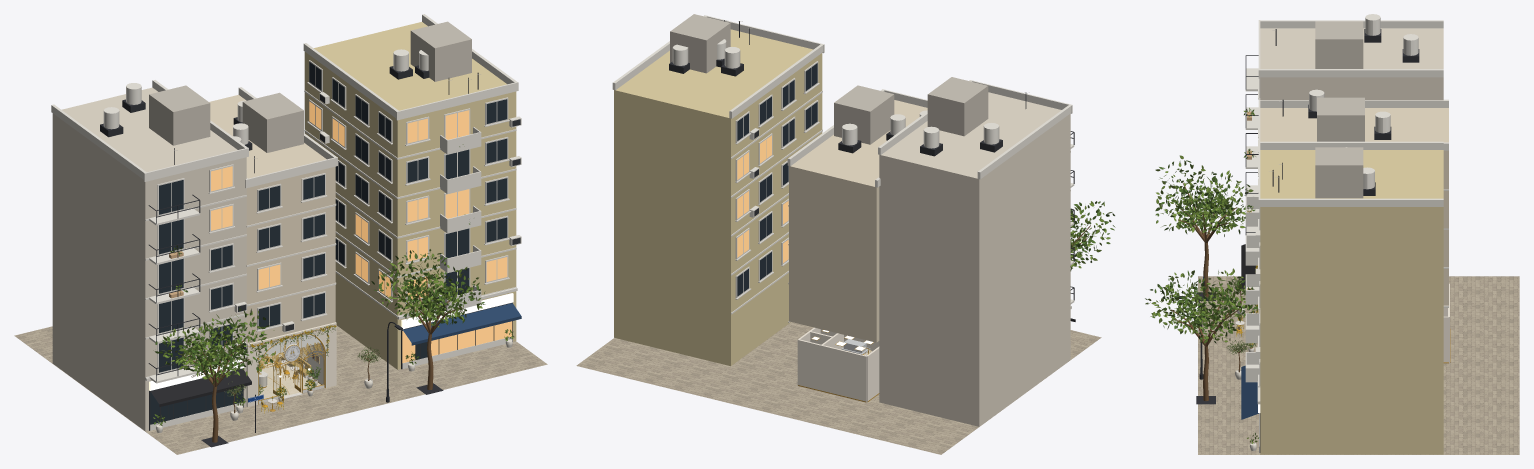
Rendered from salon-75.glb.
The picture shows the model from 3 angles, left to right: view 1: azimuth 30°, elevation 25°; view 2: azimuth 150°, elevation 25°; view 3: azimuth 270°, elevation 25°; orthographic projection.
Visible parts, largest first — view 1: bw1, bw4, bwtrim, win, paving, facade_hi, bw3, win_lit_n, leaf, leaf2, iron, aw_b (+7 smaller); view 2: bw1, bw4, facade_hi, paving, bwtrim, bw3, plaster, win, iron, win_lit_n, leaf, leaf2; view 3: bw4, paving, bwtrim, bw1, bw3, facade_hi, leaf, leaf2, iron, trunk, aw_b, plaster.
Boxes of the visible parts, x1=… form: bw1: x1=52, y1=87, x2=246, y2=431; bw4: x1=304, y1=22, x2=516, y2=369; bwtrim: x1=51, y1=14, x2=521, y2=430; win: x1=150, y1=62, x2=507, y2=424; paving: x1=14, y1=325, x2=547, y2=454; facade_hi: x1=209, y1=95, x2=335, y2=343; bw3: x1=149, y1=21, x2=471, y2=152; win_lit_n: x1=211, y1=101, x2=512, y2=363; leaf: x1=153, y1=144, x2=514, y2=425; leaf2: x1=153, y1=146, x2=513, y2=425; iron: x1=100, y1=65, x2=520, y2=447; aw_b: x1=403, y1=303, x2=521, y2=345; bw1: x1=879, y1=92, x2=1070, y2=426; bw4: x1=614, y1=29, x2=822, y2=365; facade_hi: x1=789, y1=100, x2=927, y2=342; paving: x1=576, y1=322, x2=1101, y2=454; bwtrim: x1=612, y1=15, x2=1074, y2=322; bw3: x1=670, y1=14, x2=988, y2=144; plaster: x1=797, y1=327, x2=879, y2=402; win: x1=737, y1=63, x2=817, y2=296; iron: x1=669, y1=20, x2=1074, y2=300; win_lit_n: x1=737, y1=135, x2=788, y2=262; leaf: x1=1070, y1=201, x2=1112, y2=269; leaf2: x1=1070, y1=201, x2=1115, y2=271; bw4: x1=1260, y1=150, x2=1443, y2=454; paving: x1=1198, y1=276, x2=1519, y2=454; bwtrim: x1=1245, y1=14, x2=1448, y2=452; bw1: x1=1260, y1=28, x2=1443, y2=100; bw3: x1=1315, y1=21, x2=1364, y2=198; facade_hi: x1=1260, y1=108, x2=1448, y2=305; leaf: x1=1145, y1=108, x2=1257, y2=443; leaf2: x1=1145, y1=108, x2=1258, y2=443; iron: x1=1175, y1=29, x2=1419, y2=452; trunk: x1=1170, y1=183, x2=1257, y2=401; aw_b: x1=1241, y1=365, x2=1258, y2=419; plaster: x1=1443, y1=283, x2=1449, y2=362.
Bounding box in the file's own units: 30.89 × 22.09 × 26.63.
Materials: 70 (21 with a texture image).
